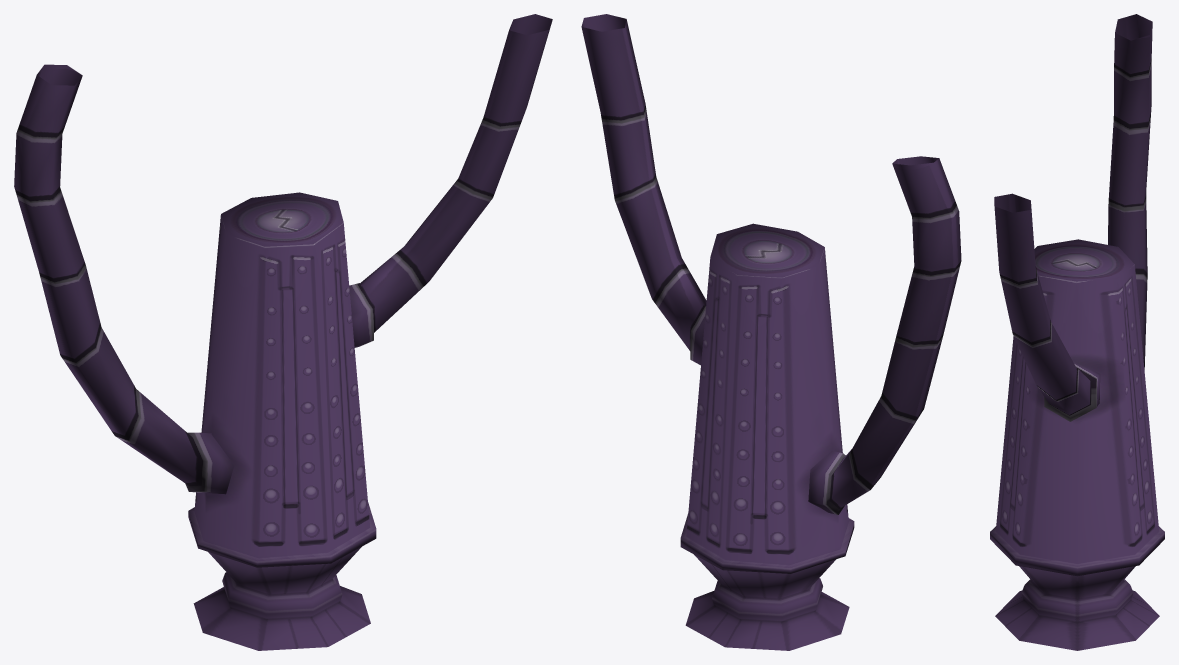
The model's file is TuboEnfeite.fbx.
3 views of the same model, side by side, from view 1: azimuth 30°, elevation 25°; view 2: azimuth 150°, elevation 25°; view 3: azimuth 270°, elevation 25° (orthographic). The views are drawn at different scales.
Visible parts, largest first — view 1: TuboEnfeite; view 2: TuboEnfeite; view 3: TuboEnfeite.
Part boxes in pixels (<box>): TuboEnfeite: <box>14,14,552,650</box>; TuboEnfeite: <box>581,14,961,650</box>; TuboEnfeite: <box>990,14,1164,650</box>.
Bounding box in the file's own units: 520 × 599 × 186.
